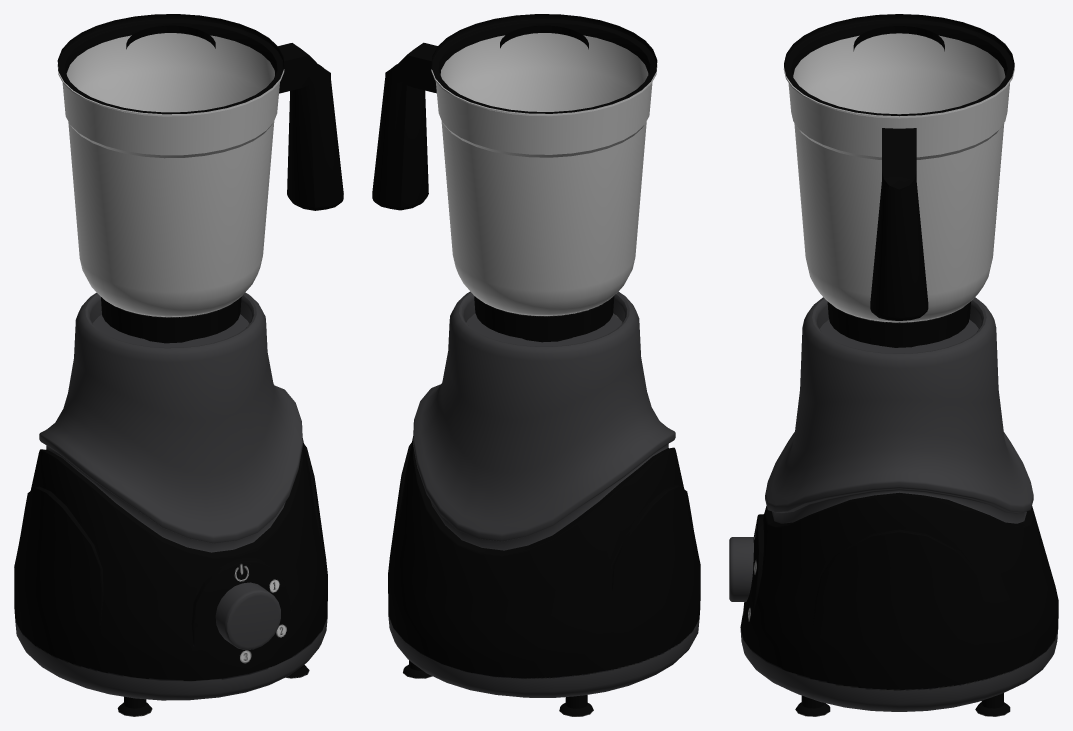
The model's file is mixer.fbx.
The picture shows the model from 3 angles, left to right: view 1: azimuth 30°, elevation 25°; view 2: azimuth 150°, elevation 25°; view 3: azimuth 270°, elevation 25°; orthographic projection. The views are drawn at different scales.
Visible parts, largest first — view 1: Cylinder, Cylinder.009, Cube, Cylinder.007, Cylinder.001, Cylinder.003; view 2: Cylinder, Cylinder.009, Cube, Cylinder.007, Cylinder.003; view 3: Cylinder, Cylinder.009, Cube, Cylinder.007, Cylinder.001, Cylinder.003.
Part boxes in pixels (x1=…): Cylinder: x1=14, y1=292, x2=327, y2=700; Cylinder.009: x1=57, y1=33, x2=284, y2=341; Cube: x1=278, y1=43, x2=343, y2=210; Cylinder.007: x1=57, y1=14, x2=284, y2=114; Cylinder.001: x1=215, y1=582, x2=280, y2=650; Cylinder.003: x1=117, y1=665, x2=309, y2=716; Cylinder: x1=388, y1=291, x2=700, y2=697; Cylinder.009: x1=431, y1=33, x2=657, y2=339; Cube: x1=372, y1=42, x2=437, y2=210; Cylinder.007: x1=431, y1=14, x2=657, y2=113; Cylinder.003: x1=403, y1=660, x2=593, y2=716; Cylinder: x1=740, y1=297, x2=1058, y2=711; Cylinder.009: x1=783, y1=33, x2=1014, y2=346; Cube: x1=870, y1=128, x2=928, y2=320; Cylinder.007: x1=784, y1=14, x2=1014, y2=116; Cylinder.001: x1=729, y1=537, x2=753, y2=601; Cylinder.003: x1=795, y1=693, x2=1010, y2=716.
Size of the model in its own units: 166 by 320 by 153.
Materials: 2 (2 with a texture image).
